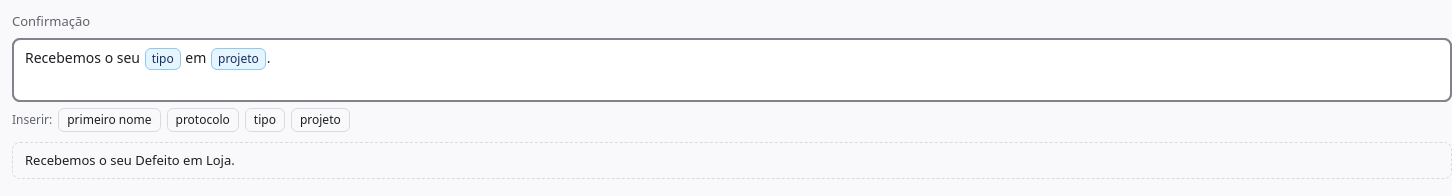
Scenario: TemplateField › a previa troca as variaveis pelos valores de exemplo, e acompanha o que se insere
The image size is (1452, 196).
Check: the text "Recebemos o seu Defeito em Loja." is shown, box [25,150,235,168]
Click the button "protocolo": (203, 120) [166,108,239,132]
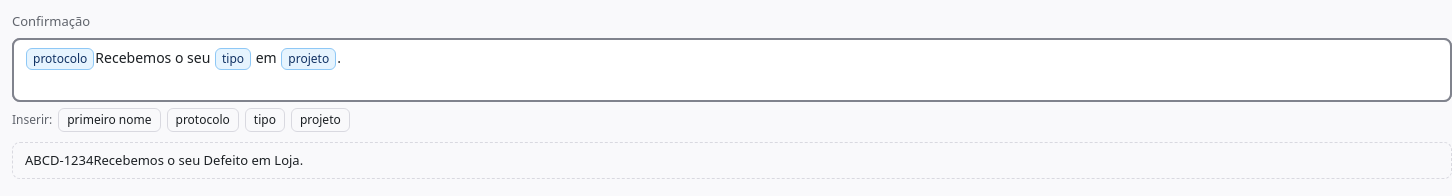
Check: the text "ABCD-1234Recebemos o seu Defeito em Loja." is shown, box [25,150,303,168]
